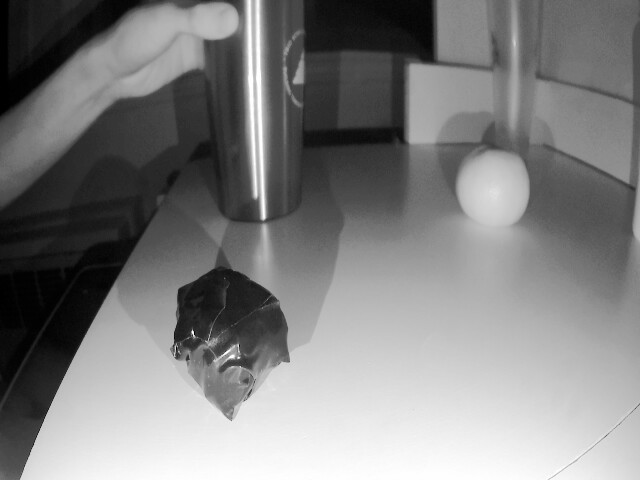black: (171, 251, 290, 415)
